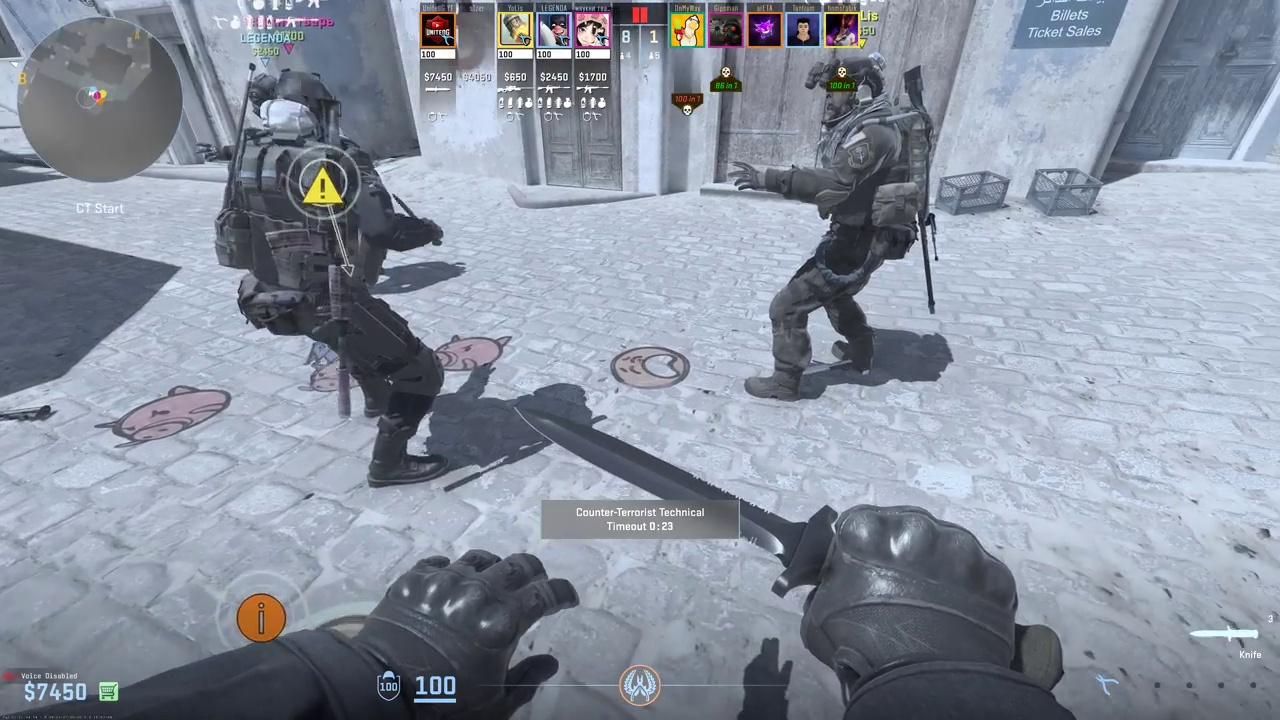CT: (235, 67, 432, 488), (761, 53, 922, 402), (249, 73, 274, 119)
